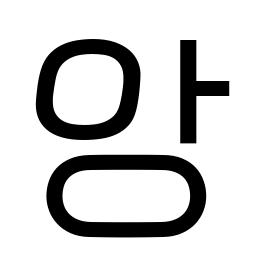Gaji: (166, 70, 217, 114)
